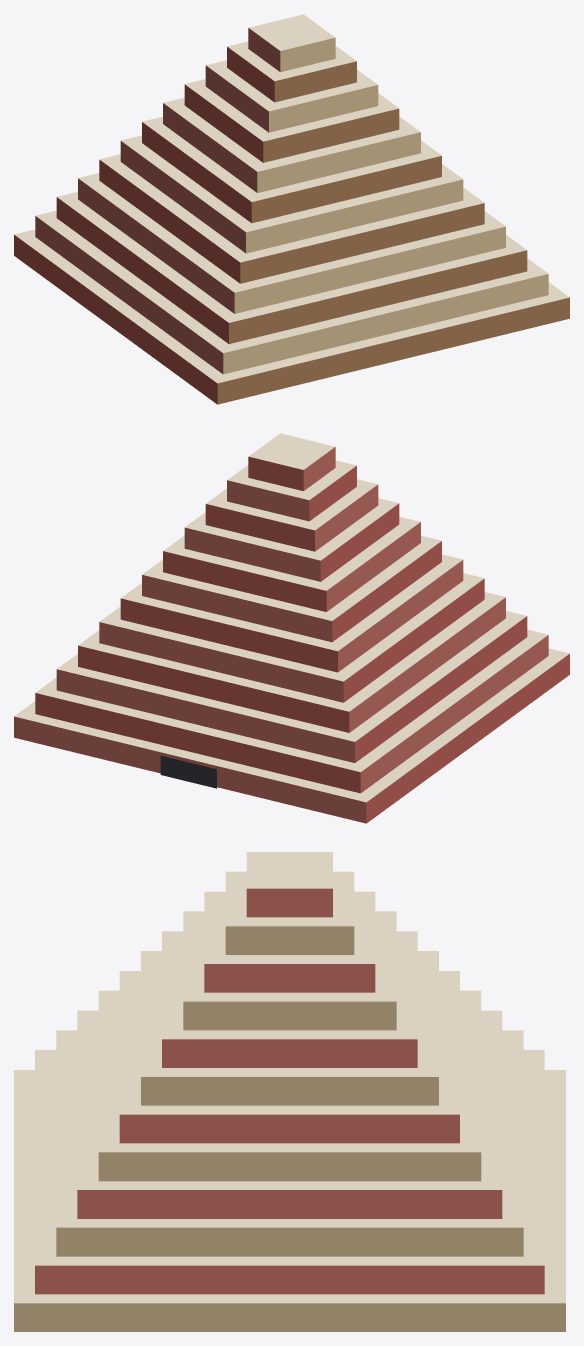
Rendered from deco_pyramid_steps.obj.
The picture shows the model from 3 angles, top to bottom: view 1: azimuth 30°, elevation 25°; view 2: azimuth 150°, elevation 25°; view 3: azimuth 270°, elevation 25°; orthographic projection. The views are drawn at different scales.
Parts seen in each view (by area): view 1: deco_pyramid_steps; view 2: deco_pyramid_steps; view 3: deco_pyramid_steps.
Part boxes in pixels (x1=…): deco_pyramid_steps: x1=14, y1=14, x2=569, y2=404; deco_pyramid_steps: x1=14, y1=433, x2=569, y2=823; deco_pyramid_steps: x1=14, y1=852, x2=565, y2=1331.
Size of the model in its own units: 0.04 by 0.0276 by 0.0403.
1 material, 1 textured.
